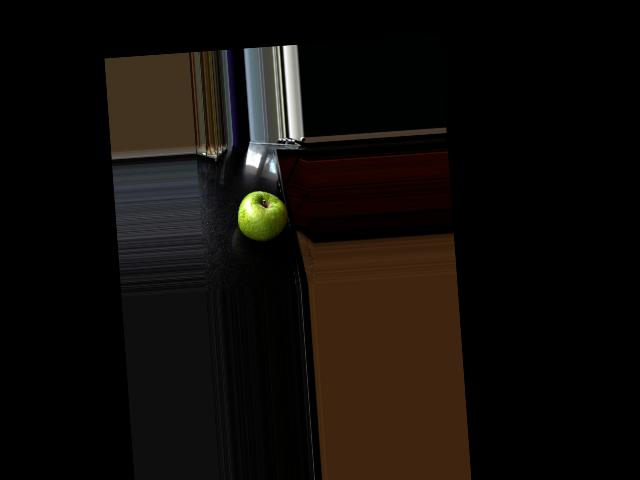apple: (233, 186, 290, 246)
